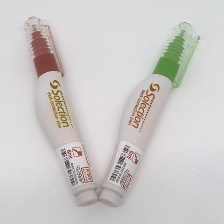correction_fluid: (95, 17, 202, 209), (18, 13, 99, 209)
